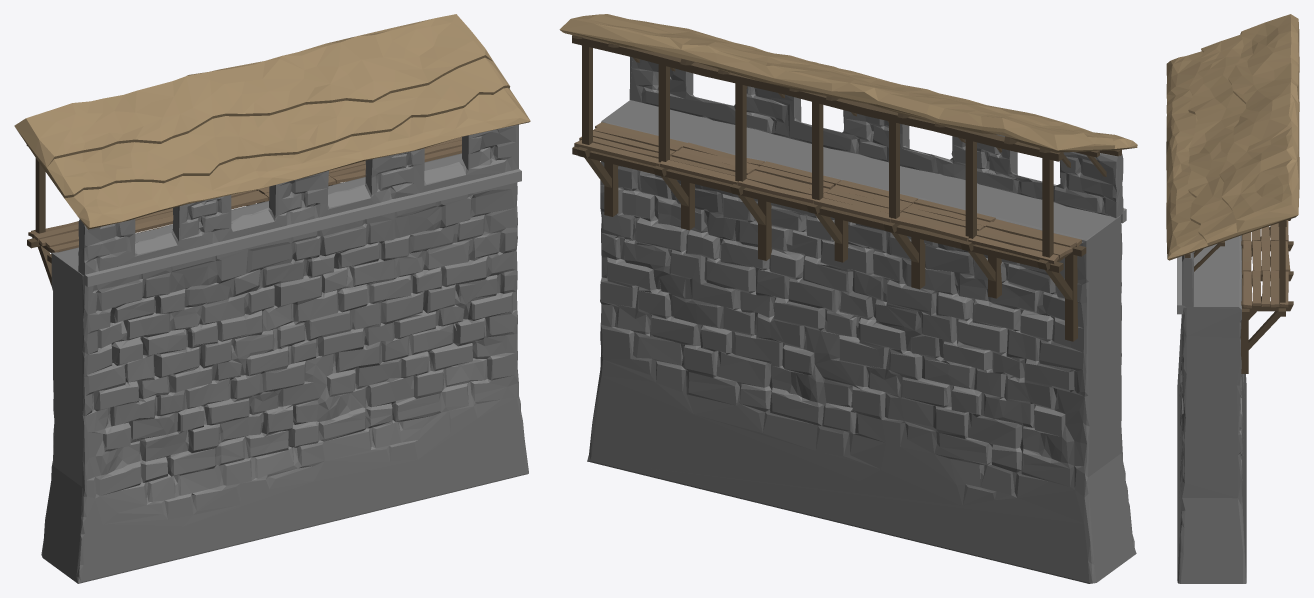
The model's file is castle_battlement_c4.FBX.
3 renders of one model, left to right at view 1: azimuth 30°, elevation 25°; view 2: azimuth 150°, elevation 25°; view 3: azimuth 270°, elevation 25°, orthographic. The views are drawn at different scales.
Visible parts, largest first — view 1: castle_battlement_c4; view 2: castle_battlement_c4; view 3: castle_battlement_c4.
Part boxes in pixels (x1=…): castle_battlement_c4: x1=14, y1=14, x2=530, y2=583; castle_battlement_c4: x1=559, y1=14, x2=1137, y2=583; castle_battlement_c4: x1=1166, y1=14, x2=1299, y2=583.
Size of the model in its own units: 15.63 by 13.9 by 4.44.
